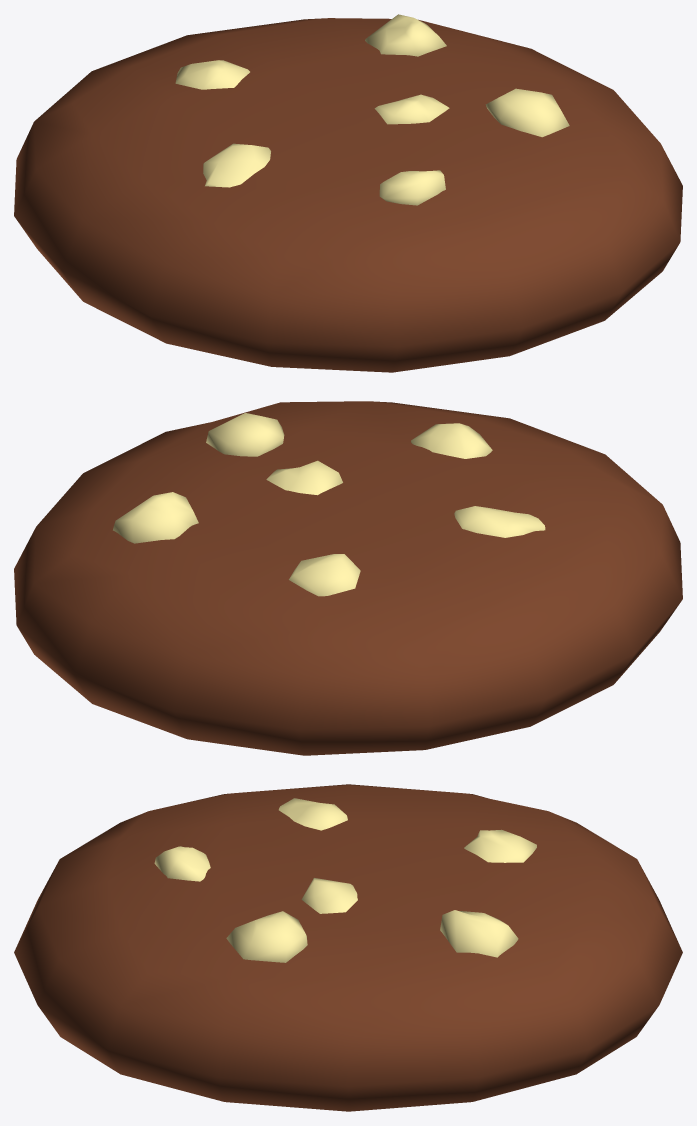
The model's file is candy_assets15.fbx.
3 renders of one model, top to bottom at view 1: azimuth 30°, elevation 25°; view 2: azimuth 150°, elevation 25°; view 3: azimuth 270°, elevation 25°, orthographic. The views are drawn at different scales.
Visible parts, largest first — view 1: candy_assets15; view 2: candy_assets15; view 3: candy_assets15.
Boxes of the visible parts, x1,y1,x2,y2 form: candy_assets15: (14, 14, 682, 372); candy_assets15: (14, 401, 682, 755); candy_assets15: (14, 784, 682, 1111).
Bounding box in the file's own units: 468 × 119 × 493.
1 material, 1 textured.
